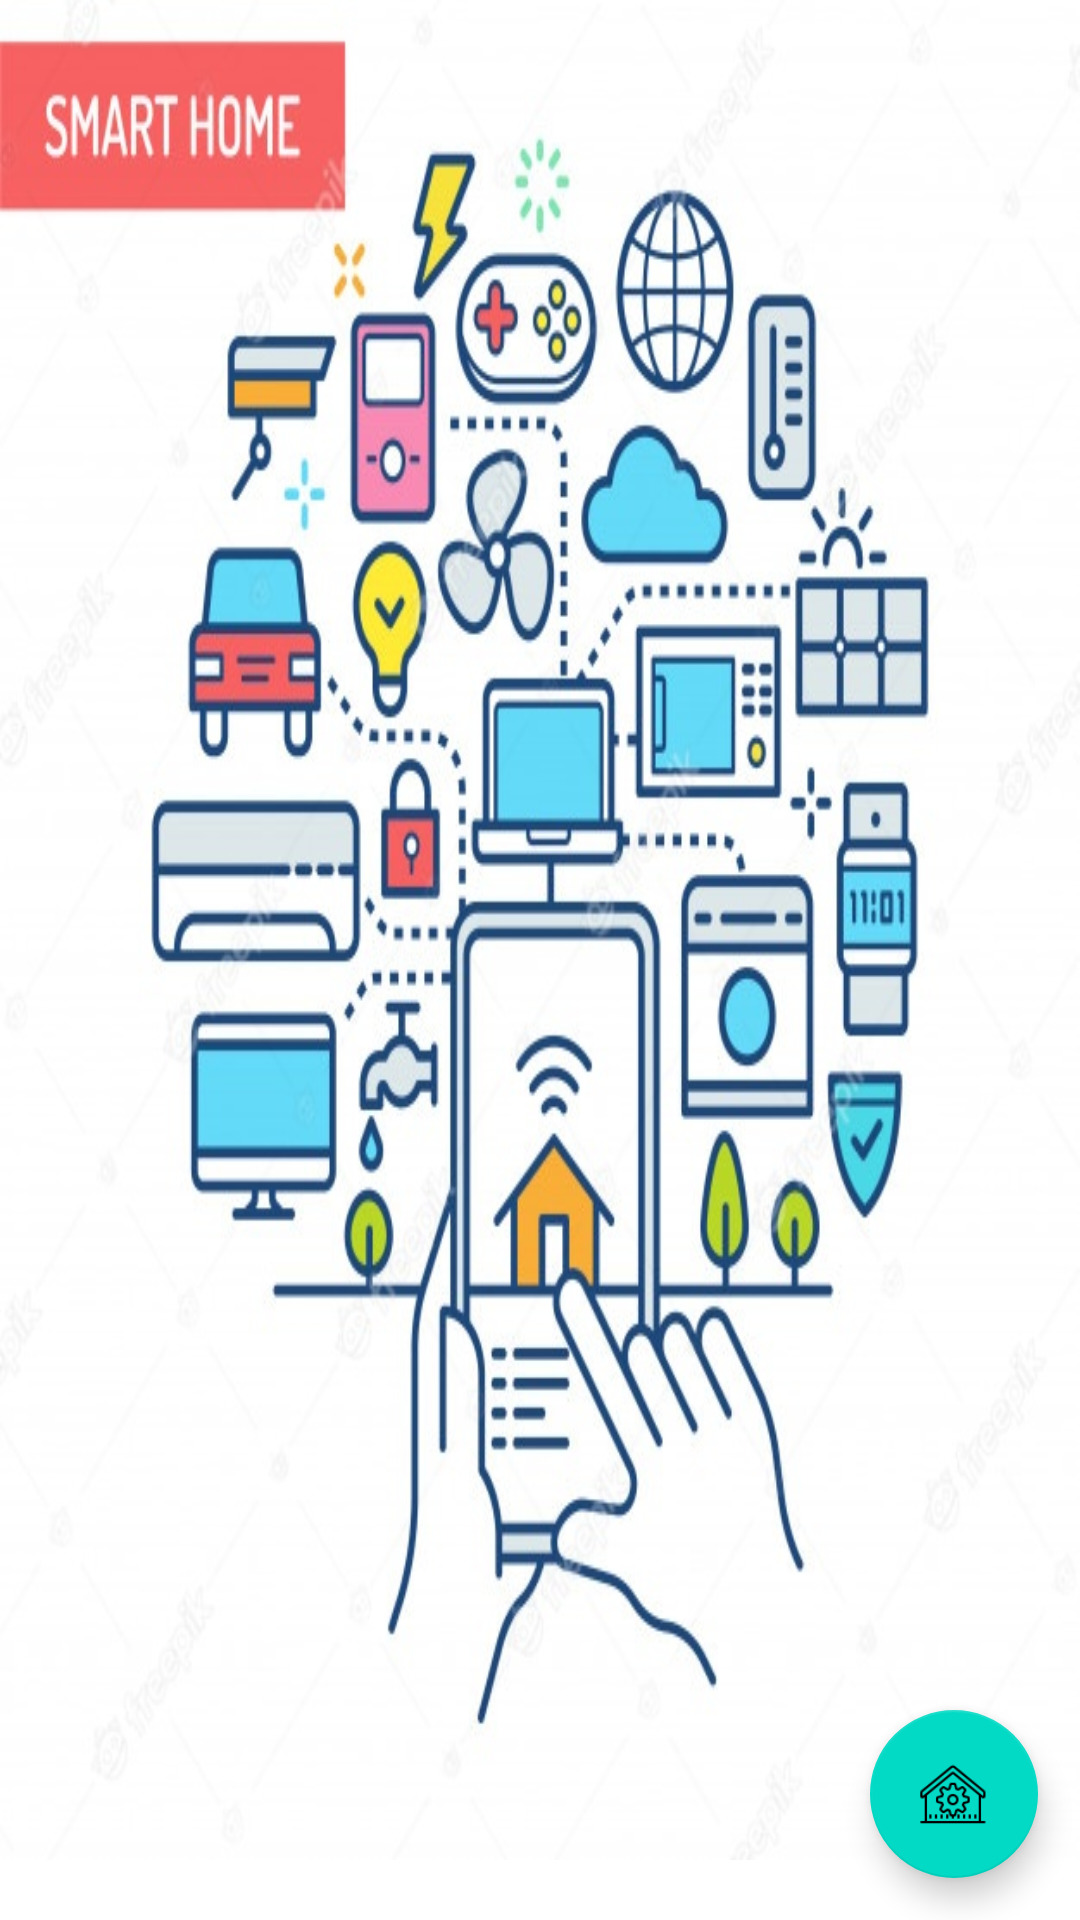

Icons on this 1080w x 1920h Android screen, each with its box as (x1, y1, x2, y2):
gear: (870, 1710, 1038, 1878)
